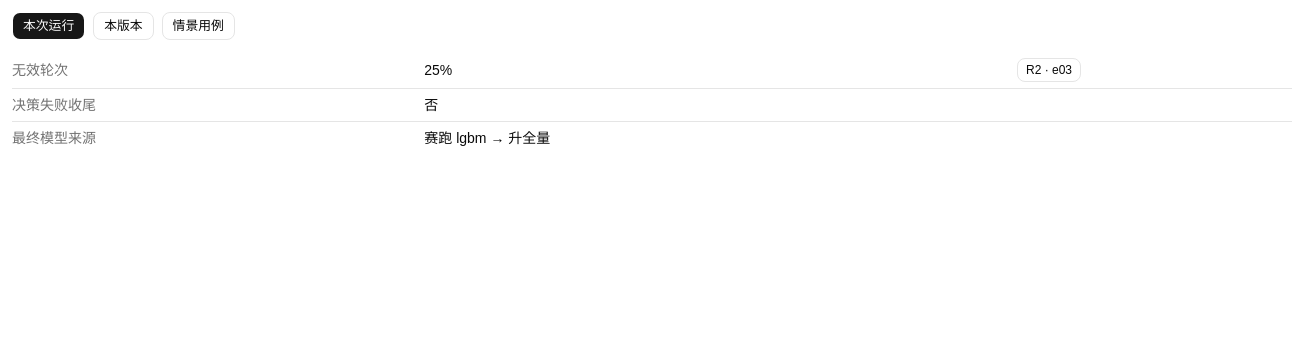
Test: 本版本：指标显示中文名，并列出用时与花费的变化
What coordinates should you click on to do the following:
click the button "本版本"
I would click on:
 (123, 26)
Its box is [93,12,154,40].
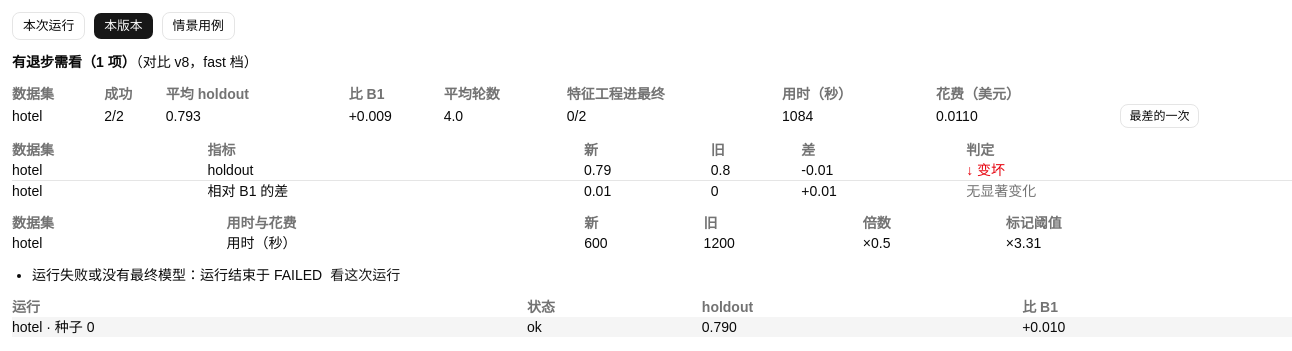
Result: the cell "相对 B1 的差" is shown at [207,180,584,201]
Result: the cell "用时（秒）" is shown at [227,233,584,253]
Result: the cell "×0.5" is shown at [863,233,1006,253]
